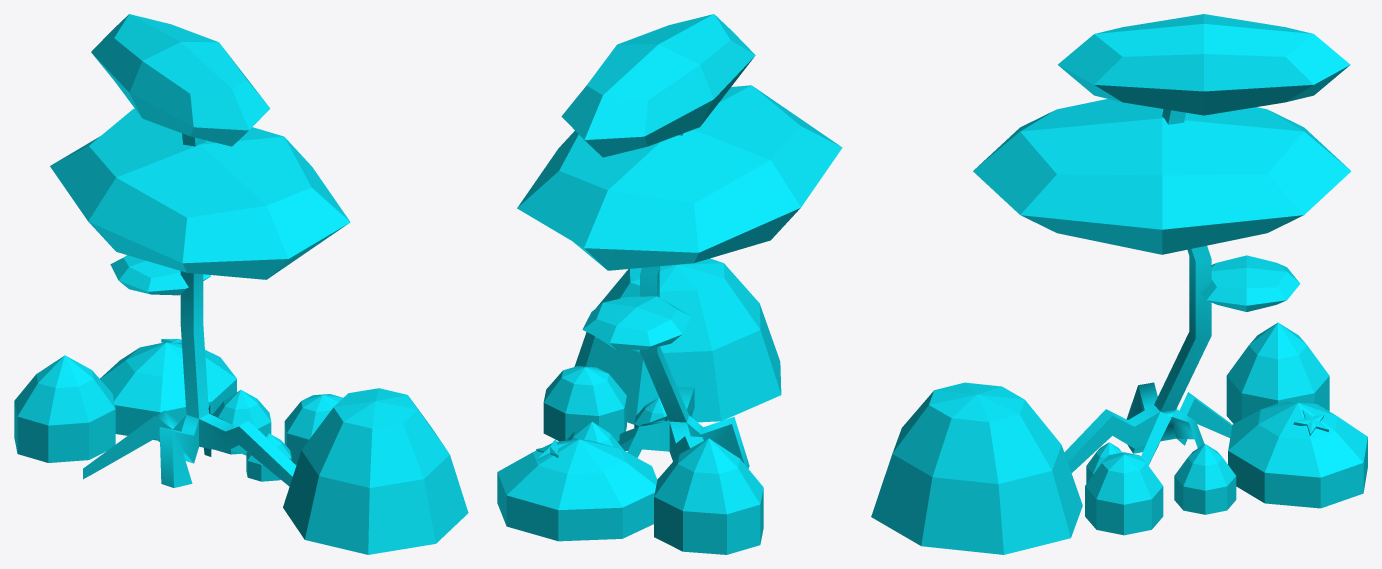
The model's file is Asset_BlockBeach_01.fbx.
3 renders of one model, left to right at view 1: azimuth 30°, elevation 25°; view 2: azimuth 150°, elevation 25°; view 3: azimuth 270°, elevation 25°, orthographic. The views are drawn at different scales.
Parts seen in each view (by area): view 1: PolySurface_Tree, PolySurface_Rock_05, PolySurface_Rock_01, PolySurface_Rock_02, PolySurface_Rock_04, PolySurface_Rock_06, PolySurface_Rock_03; view 2: PolySurface_Tree, PolySurface_Rock_05, PolySurface_Rock_02, PolySurface_Rock_01, PolySurface_Rock_04, PolySurface_Rock_06, PolySurface_Rock_03; view 3: PolySurface_Tree, PolySurface_Rock_05, PolySurface_Rock_02, PolySurface_Rock_01, PolySurface_Rock_04, PolySurface_Rock_06.
Part boxes in pixels (x1,y1,x2,y2): PolySurface_Tree: [50, 14, 350, 487]; PolySurface_Rock_05: [283, 388, 468, 554]; PolySurface_Rock_01: [14, 355, 115, 462]; PolySurface_Rock_02: [100, 342, 236, 440]; PolySurface_Rock_04: [284, 394, 342, 464]; PolySurface_Rock_06: [213, 390, 271, 454]; PolySurface_Rock_03: [246, 433, 291, 481]; PolySurface_Tree: [517, 14, 842, 468]; PolySurface_Rock_05: [574, 258, 781, 424]; PolySurface_Rock_02: [497, 439, 657, 541]; PolySurface_Rock_01: [654, 438, 763, 554]; PolySurface_Rock_04: [543, 366, 626, 441]; PolySurface_Rock_06: [566, 422, 624, 450]; PolySurface_Rock_03: [634, 398, 666, 428]; PolySurface_Tree: [973, 14, 1351, 472]; PolySurface_Rock_05: [871, 382, 1082, 554]; PolySurface_Rock_02: [1228, 401, 1367, 508]; PolySurface_Rock_01: [1226, 322, 1329, 423]; PolySurface_Rock_04: [1085, 452, 1163, 535]; PolySurface_Rock_06: [1174, 444, 1236, 514].
Size of the model in its own units: 147 by 201 by 196.
